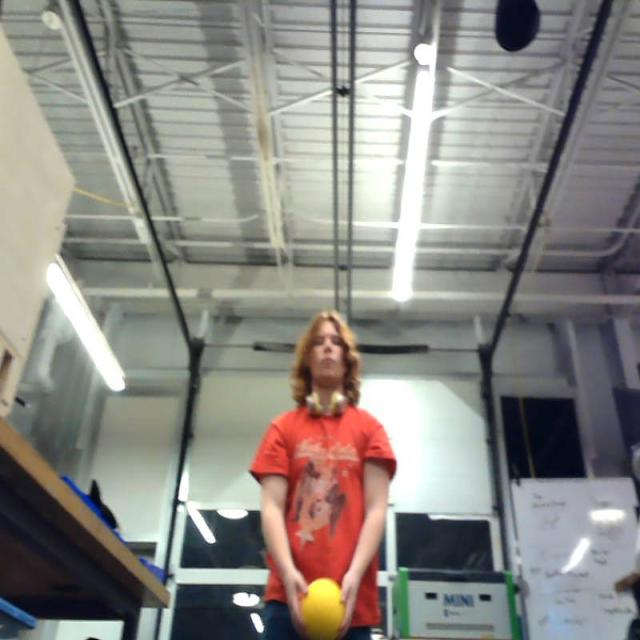Fuel: (296, 577, 346, 640)
